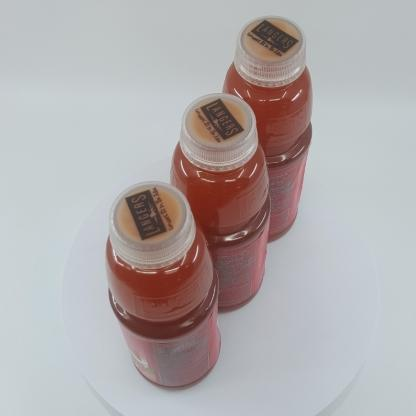-----449ML: (105, 181, 221, 389), (169, 92, 271, 313), (222, 15, 313, 244)
